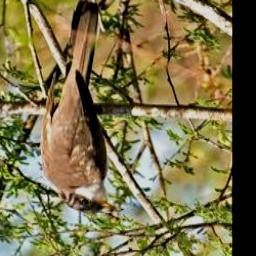Cuckoo: (39, 1, 123, 215)
